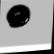correct: (4, 2, 31, 31)
